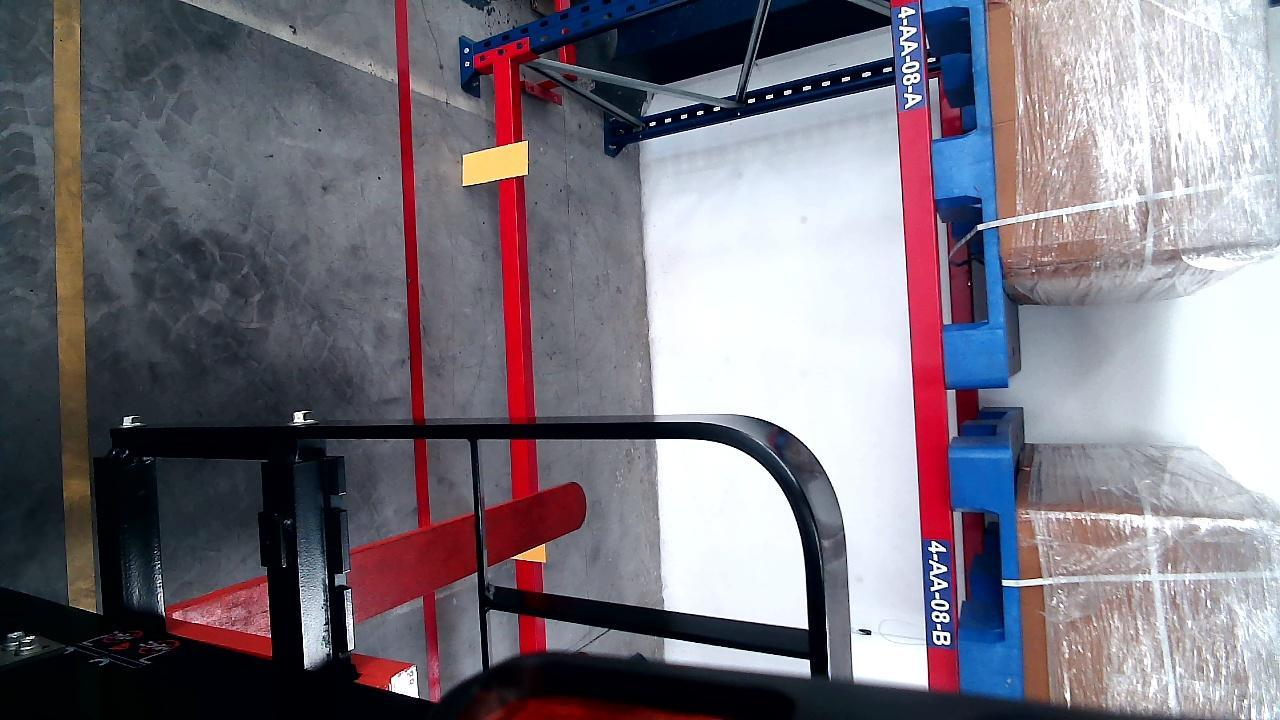red_line: (393, 1, 441, 698)
yellow_line: (53, 2, 93, 612)
